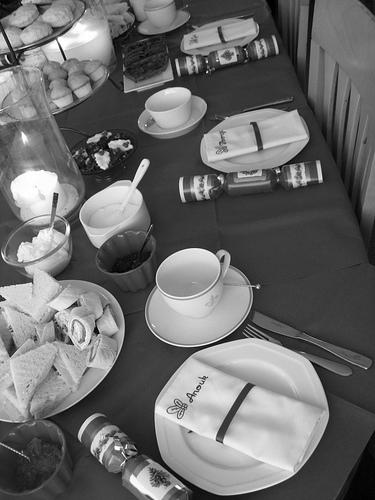glass: (157, 248, 229, 314), (146, 89, 191, 125)
